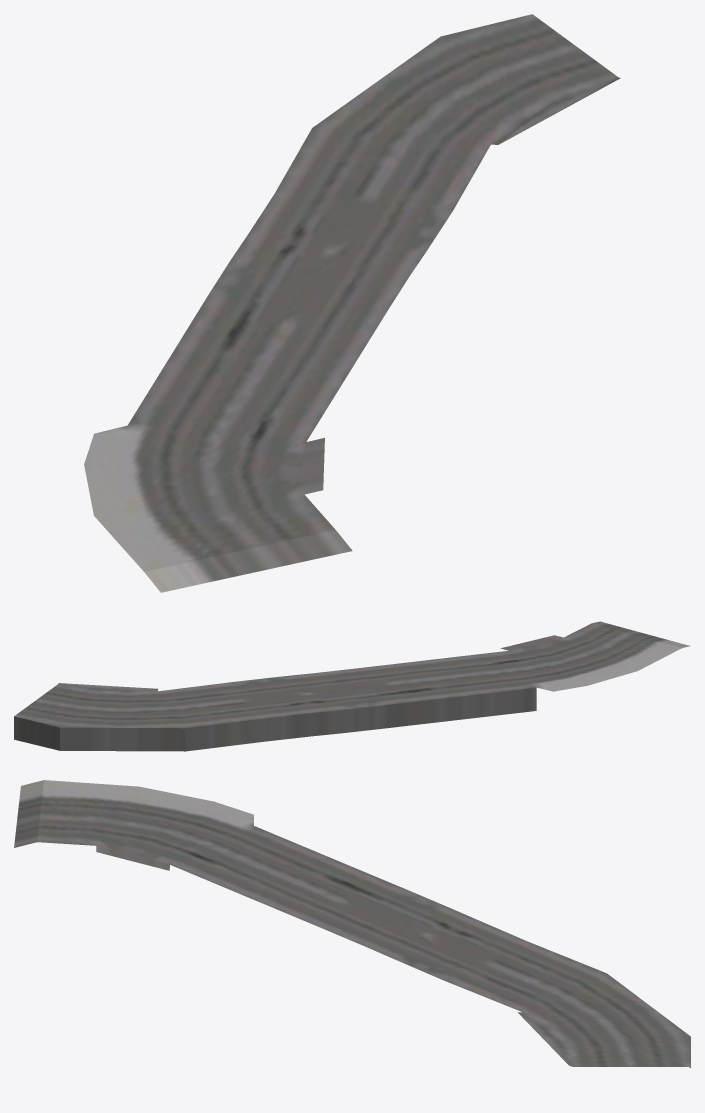
Rendered from lodd03_sfe.obj.
The picture shows the model from 3 angles, top to bottom: view 1: azimuth 30°, elevation 25°; view 2: azimuth 150°, elevation 25°; view 3: azimuth 270°, elevation 25°; orthographic projection. The views are drawn at different scales.
Visible parts, largest first — view 1: LODd03_sfe; view 2: LODd03_sfe; view 3: LODd03_sfe.
Boxes of the visible parts, x1,y1,x2,y2 form: LODd03_sfe: [84, 14, 620, 592]; LODd03_sfe: [14, 621, 690, 751]; LODd03_sfe: [14, 780, 690, 1067].
Bounding box in the file's own units: 247 × 13.18 × 246.
Materials: 1 (1 with a texture image).
